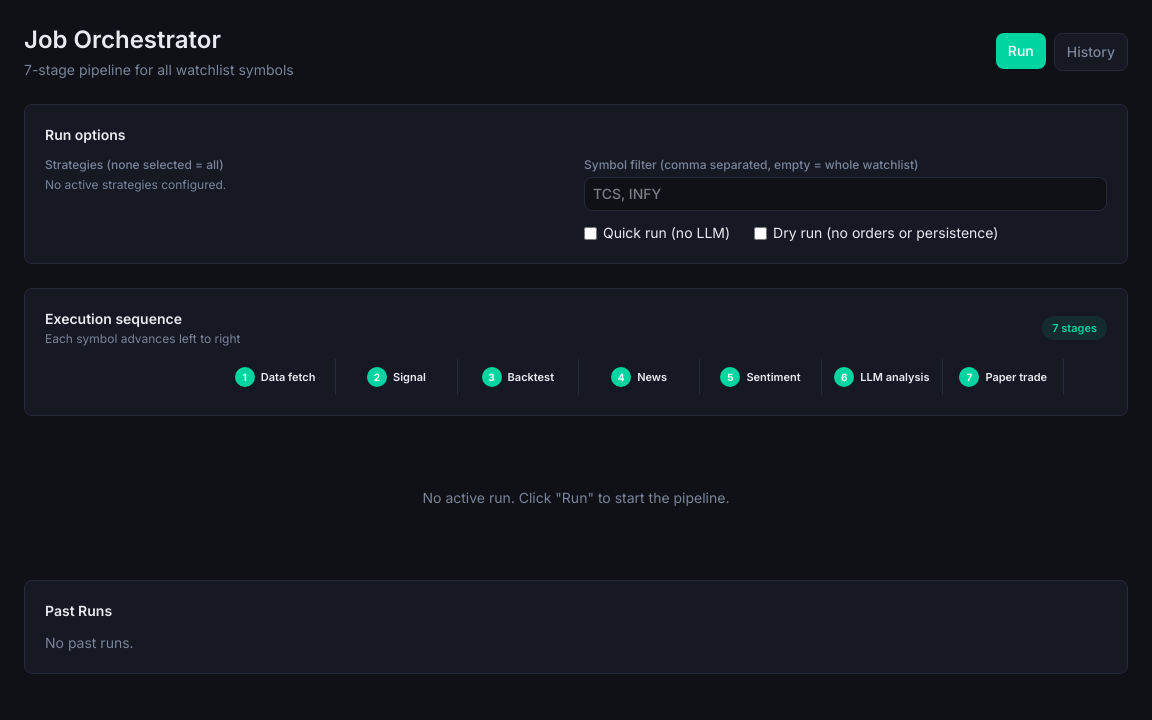
Test: OrchestratorView — run control › restores Run and does not invent a current run when start is rejected
The width and height of the screenshot is (1152, 720).
What coordinates should you click on to do the following:
click the button with aria-label "Run job orchestrator"
I would click on:
 (1021, 51)
Its box is x1=996 y1=33 x2=1046 y2=69.
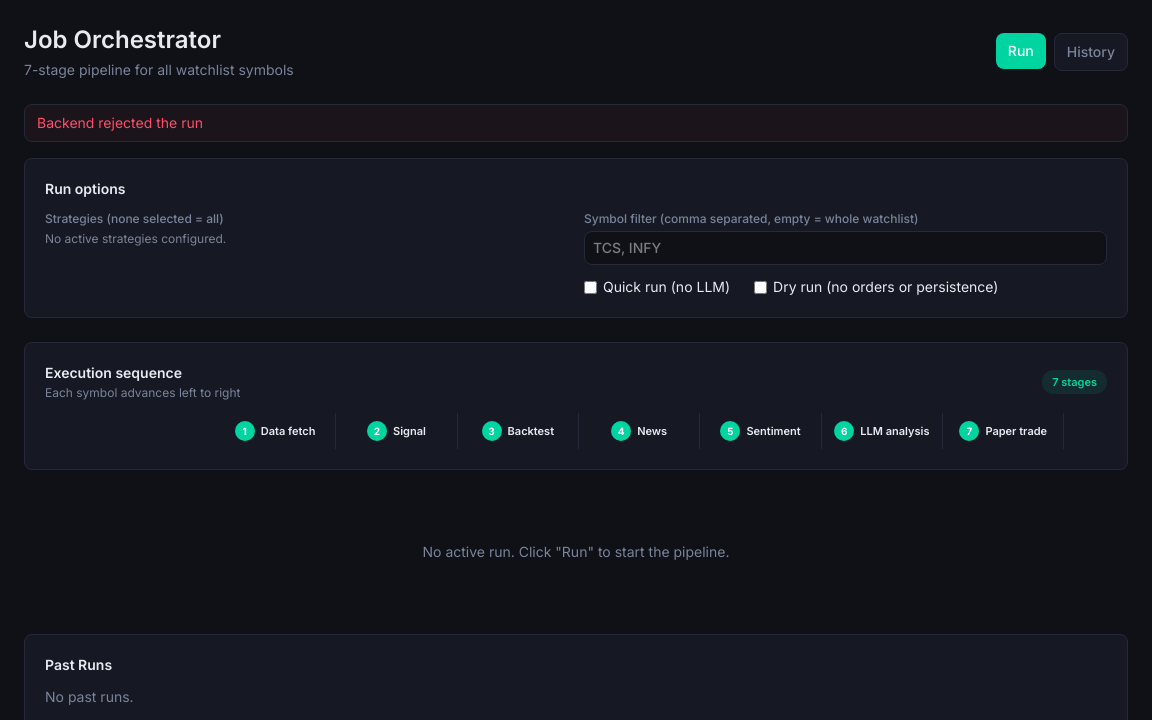
Expected: the text "No active run" is shown, x1=422 y1=543 x2=730 y2=560
Now the text "Backend rejected the run" is shown, box x1=37 y1=113 x2=203 y2=133
